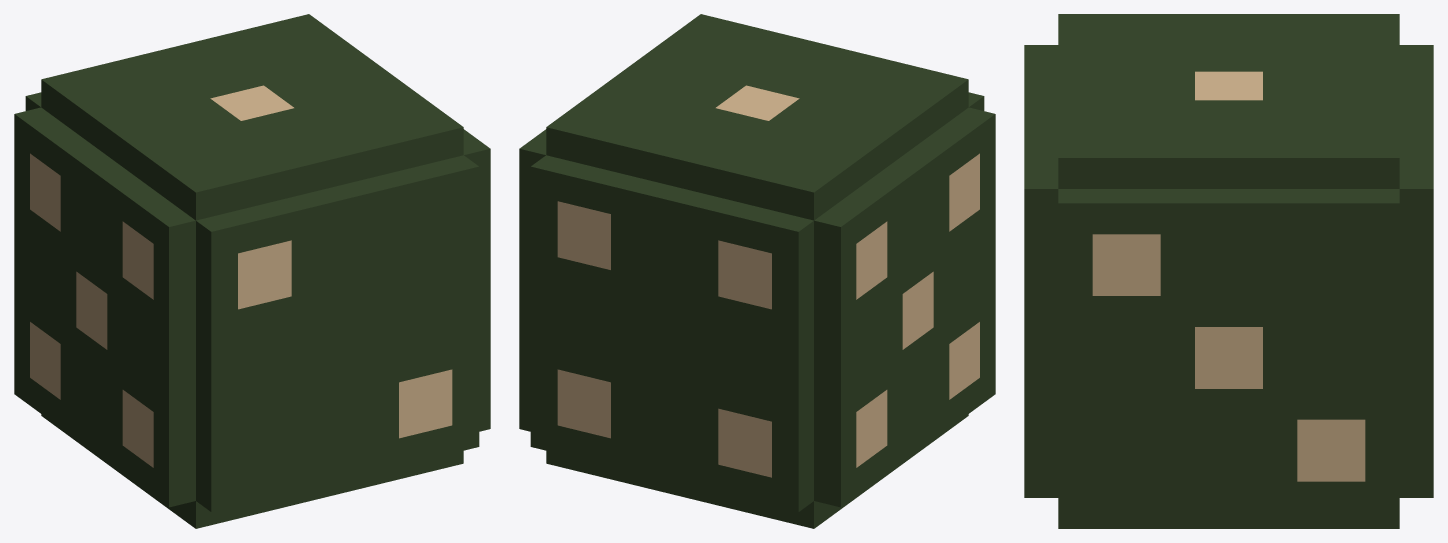
File: dice-v1-green-tan.gltf
The picture shows the model from 3 angles, left to right: view 1: azimuth 30°, elevation 25°; view 2: azimuth 150°, elevation 25°; view 3: azimuth 270°, elevation 25°; orthographic projection. The views are drawn at different scales.
Parts seen in each view (by area): view 1: Untitled; view 2: Untitled; view 3: Untitled.
Part boxes in pixels (x1,y1,x2,y2): Untitled: (14,14,490,528); Untitled: (519,14,995,528); Untitled: (1024,14,1433,528).
Size of the model in its own units: 1.2 by 1.2 by 1.2.
1 material, 1 textured.
